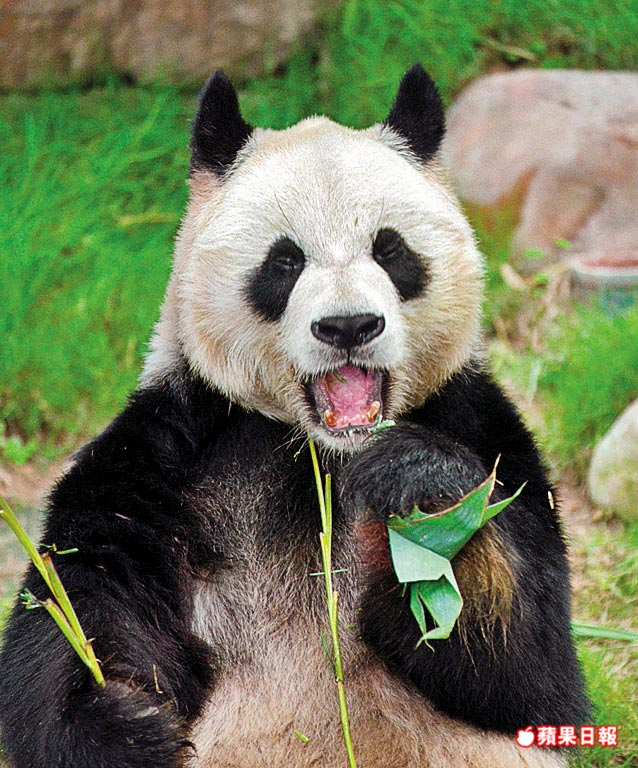panda: (3, 64, 593, 768)
